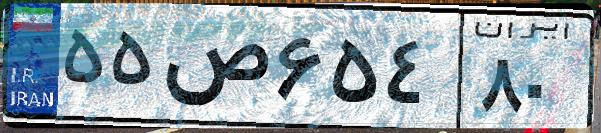0: (525, 38, 570, 115)
4: (385, 28, 445, 110)
5: (330, 28, 385, 110), (57, 26, 110, 100), (110, 28, 158, 98)
6: (270, 28, 330, 110)
8: (475, 38, 525, 113)
ص: (158, 20, 270, 120)
